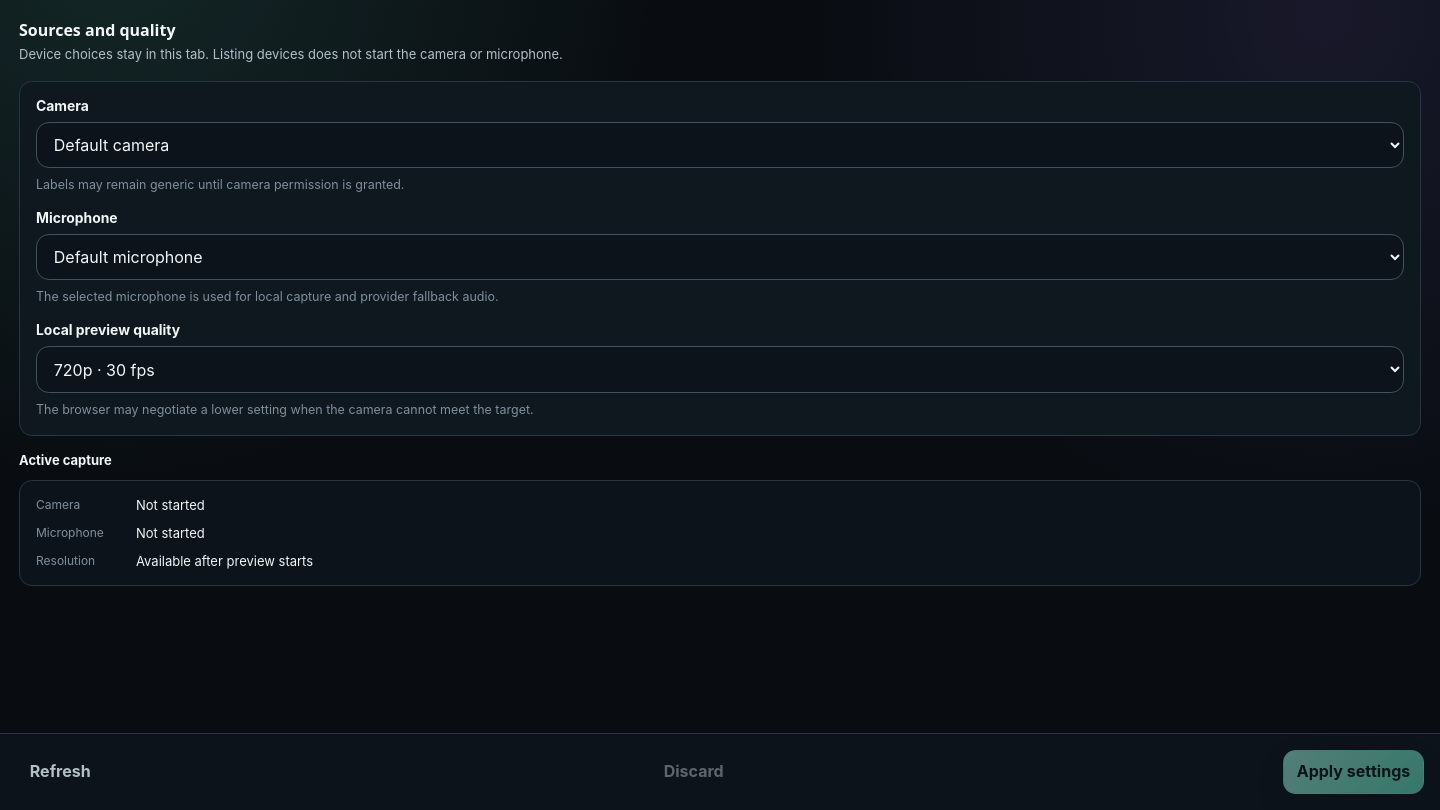
CaptureSettingsPanel › enumerates safely and applies session-only source and quality preferences
This screenshot has width=1440, height=810.
Select "Studio camera" in the dropdown labelled "Camera" at (720,145), box [36, 122, 1404, 168]
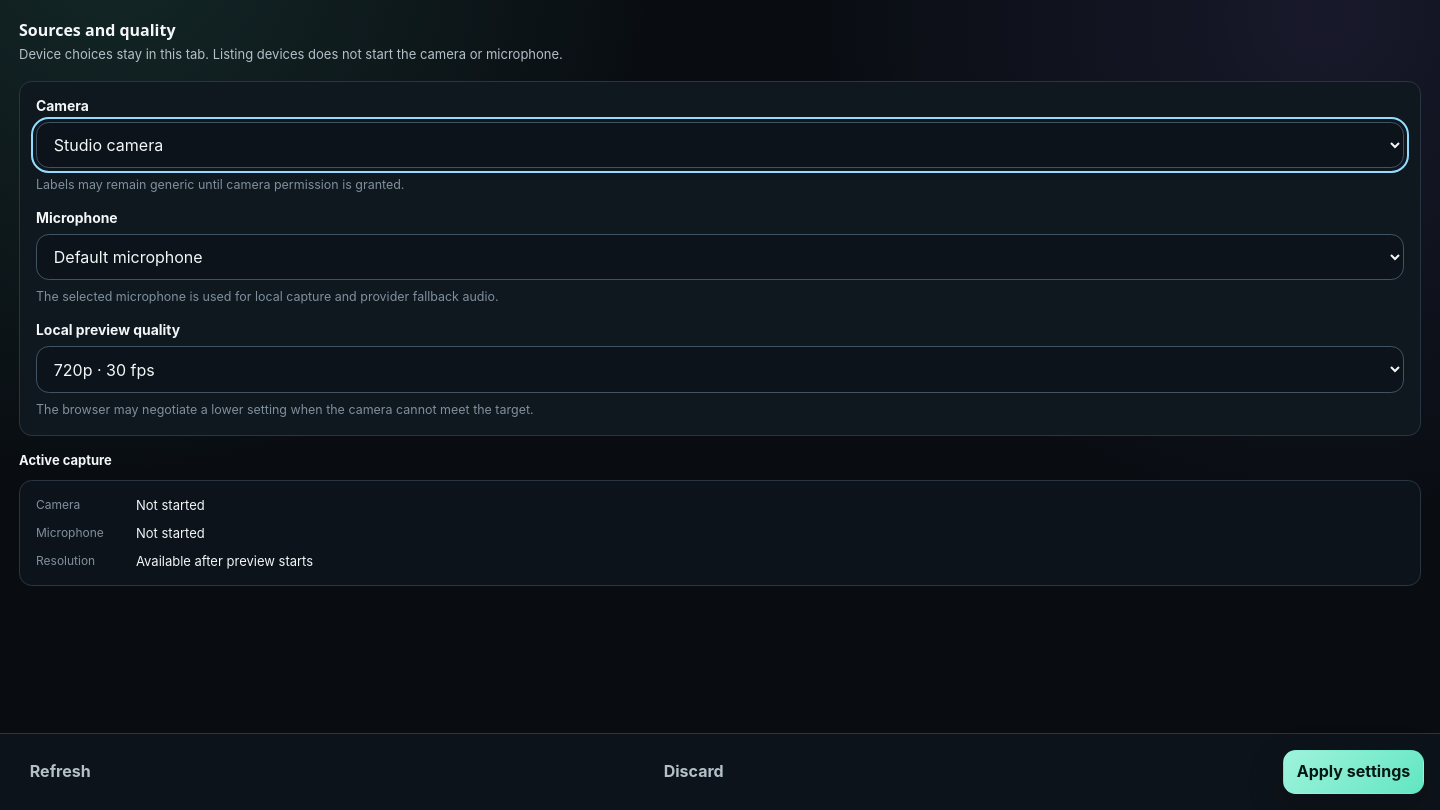
Select "Desk microphone" in the dropdown labelled "Microphone" at (720,257), box [36, 234, 1404, 280]
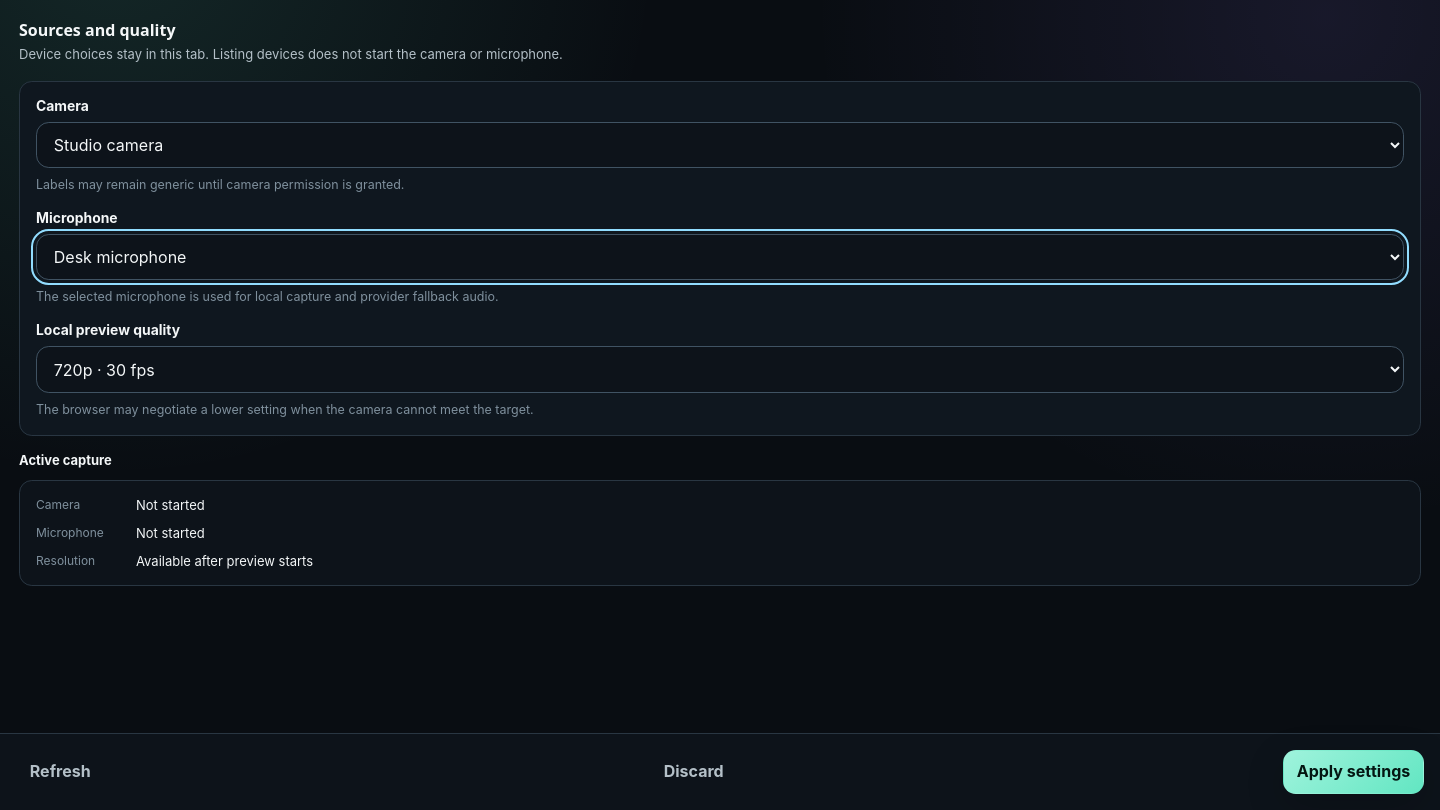
Select "1080p · 30 fps" in the dropdown labelled "Local preview quality" at (720,370), box [36, 346, 1404, 393]
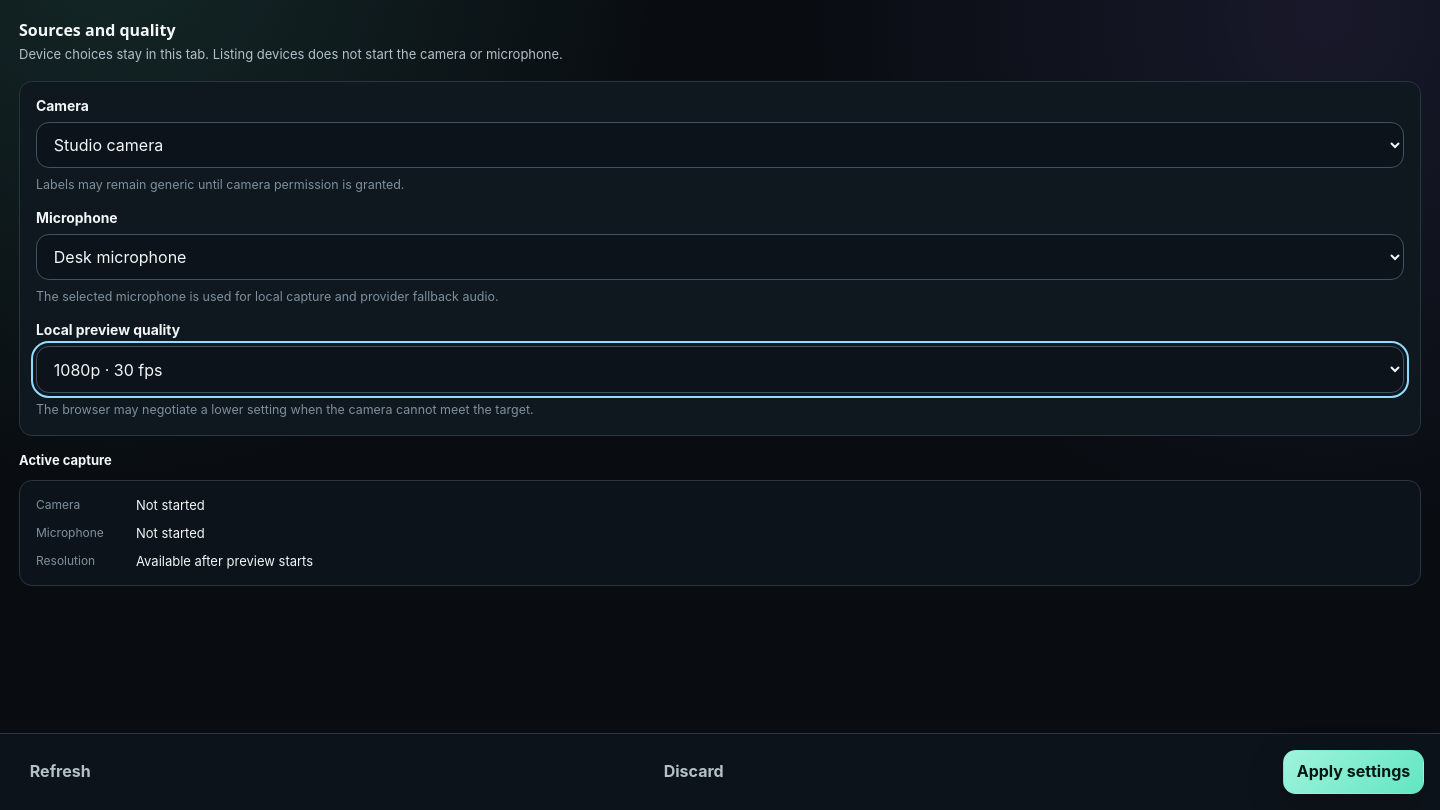
Click the button "Apply settings" at (1354,772), box [1283, 750, 1424, 794]
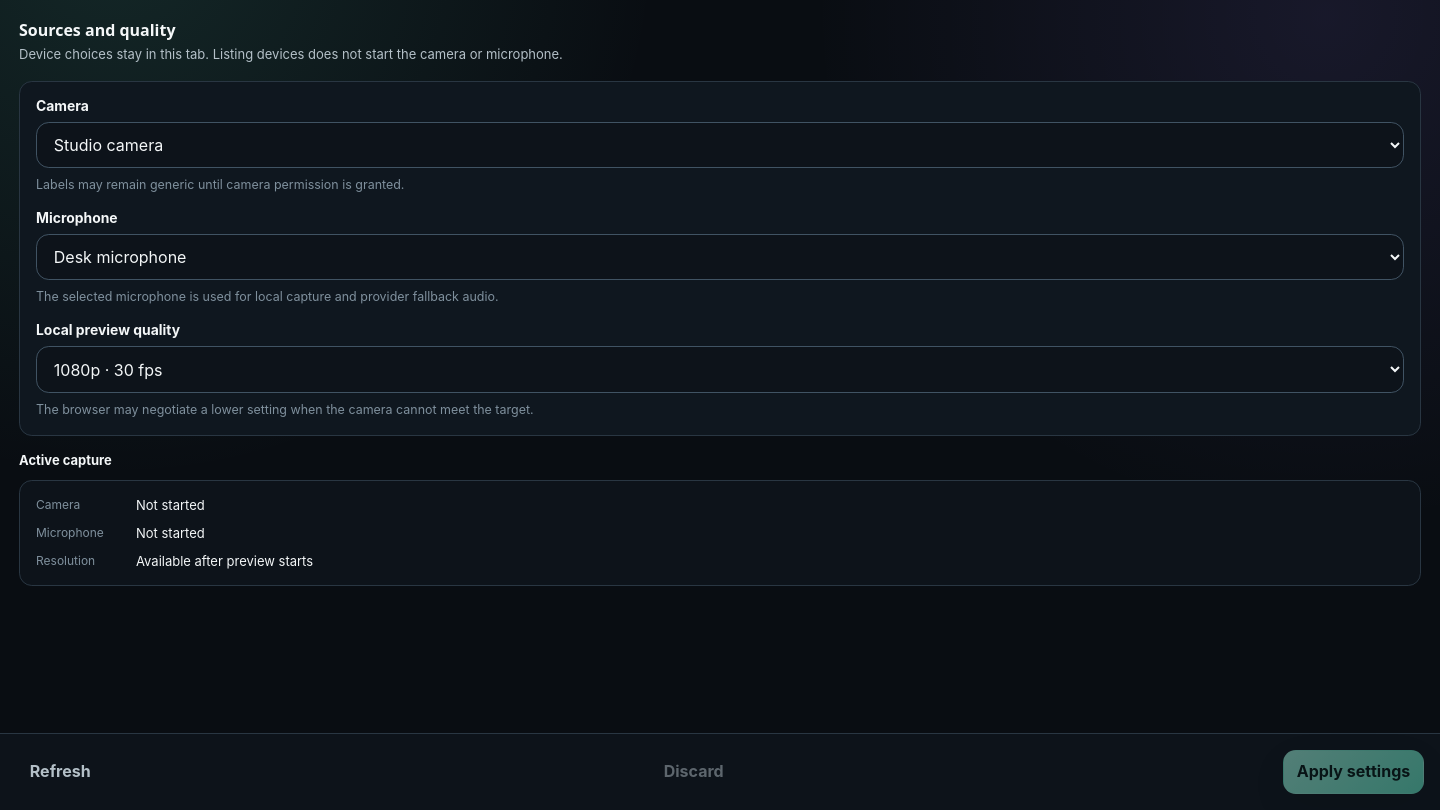
Result: the button "Apply settings" is disabled at [1283, 750, 1424, 794]
